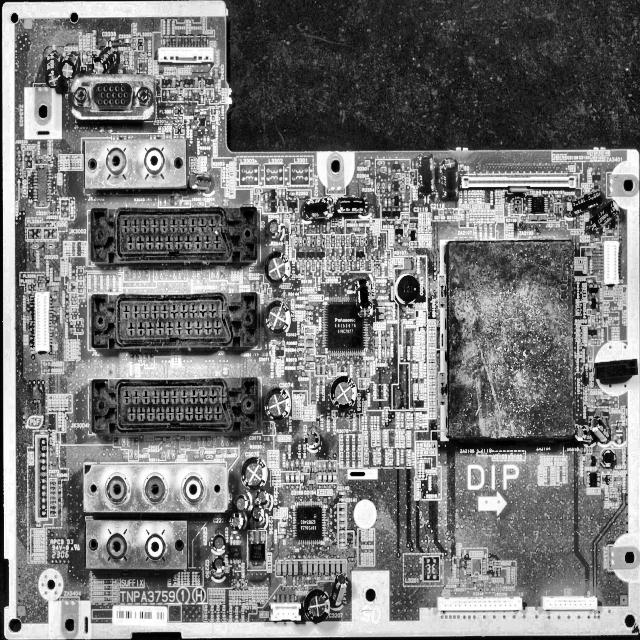PCB: (0, 3, 639, 640)
